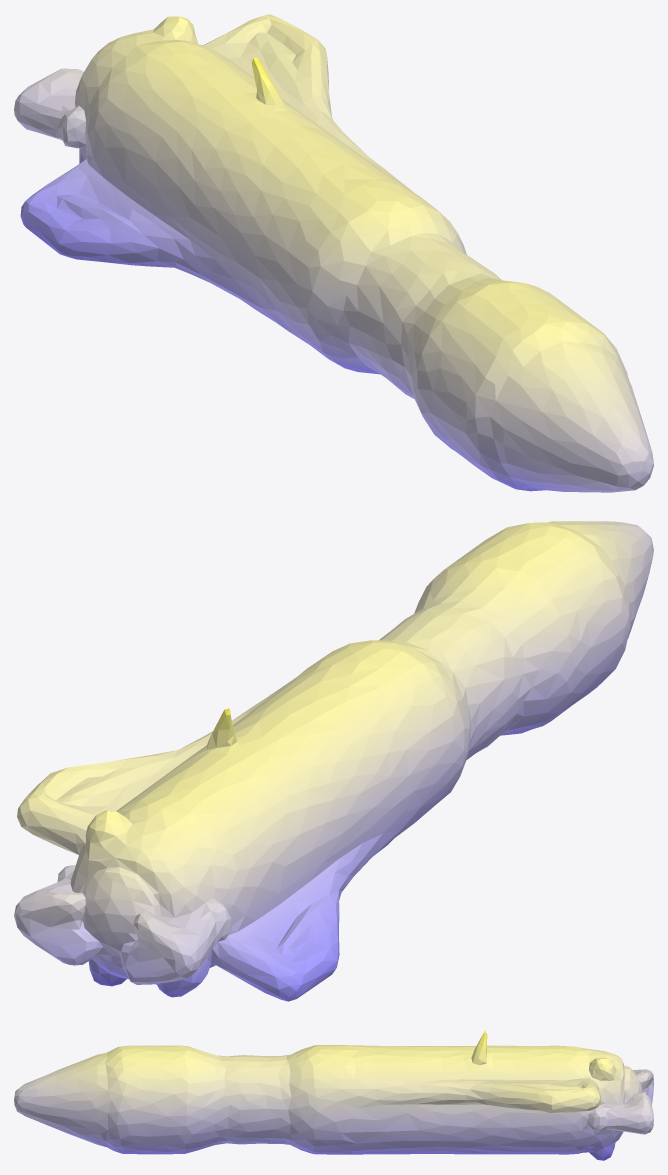
File: 149_cyb_laser_gradient_fish_scales_2880_2026_10_03_212742.glb
3 views of the same model, one above another, from view 1: azimuth 30°, elevation 25°; view 2: azimuth 150°, elevation 25°; view 3: azimuth 270°, elevation 25° (orthographic). The views are drawn at different scales.
Visible parts, largest first — view 1: geometry_0; view 2: geometry_0; view 3: geometry_0.
Boxes of the visible parts, left/top/right/bottom form: geometry_0: left=14, top=14, right=653, bottom=492; geometry_0: left=14, top=521, right=653, bottom=1001; geometry_0: left=14, top=1030, right=653, bottom=1160.
Bounding box in the file's own units: 0.3005 × 0.2125 × 1.
